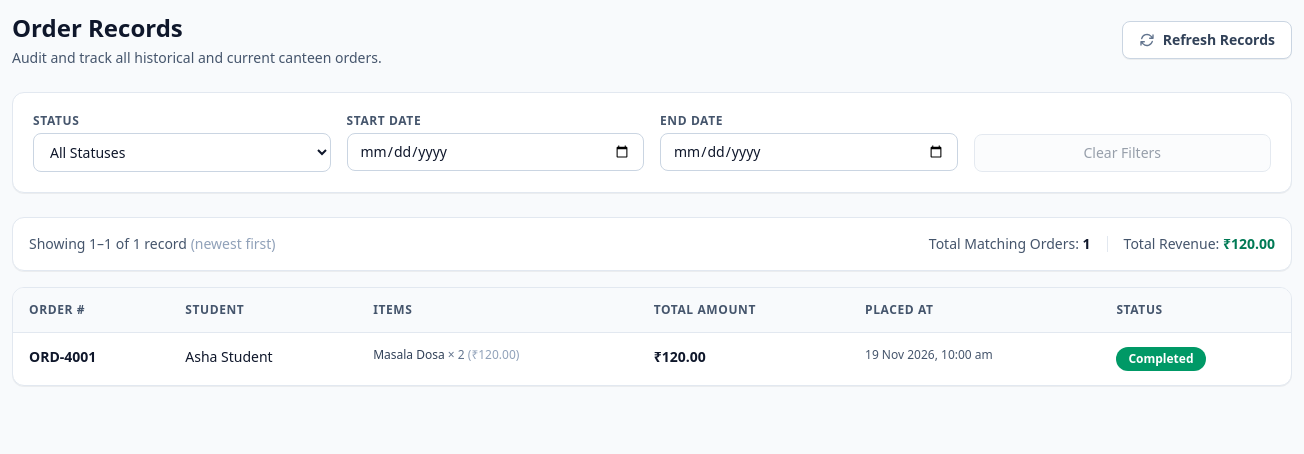
Test case: Increment 4: records, filters, and retry UI › shows records and revenue, then applies status and date filters
This screenshot has width=1304, height=454.
Expected: the row "ORD-4001" is shown, [13, 332, 1291, 385]
Expected: the text "Asha Student" is shown, [185, 347, 273, 366]
Step 1. Select "Completed" in the dropdown labelled "Status" → (182, 152), box [33, 133, 330, 172]
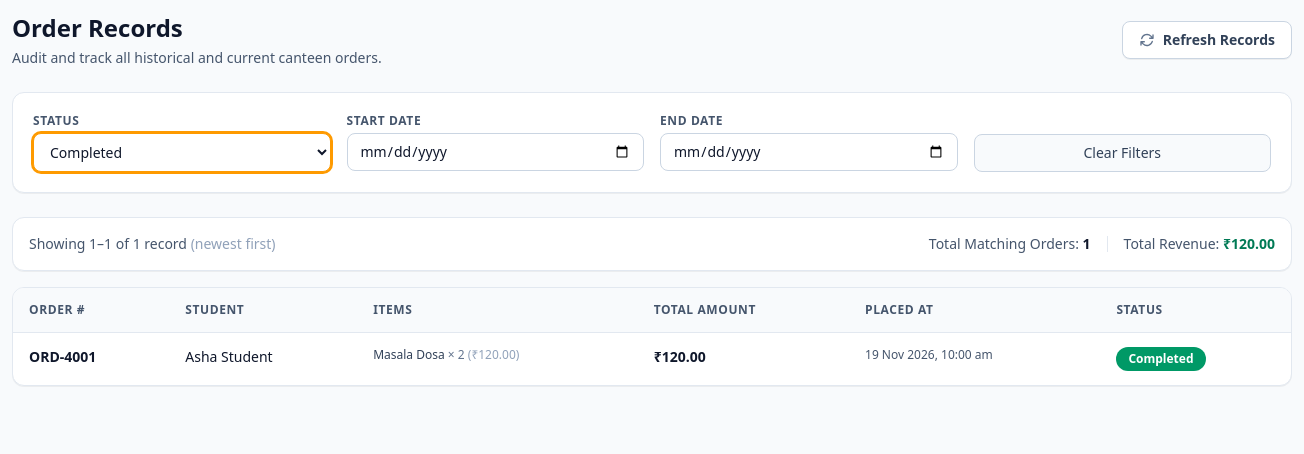
Step 2. Type "2026-11-10" into the date field labelled "Start Date" → (495, 152), box [346, 133, 644, 171]
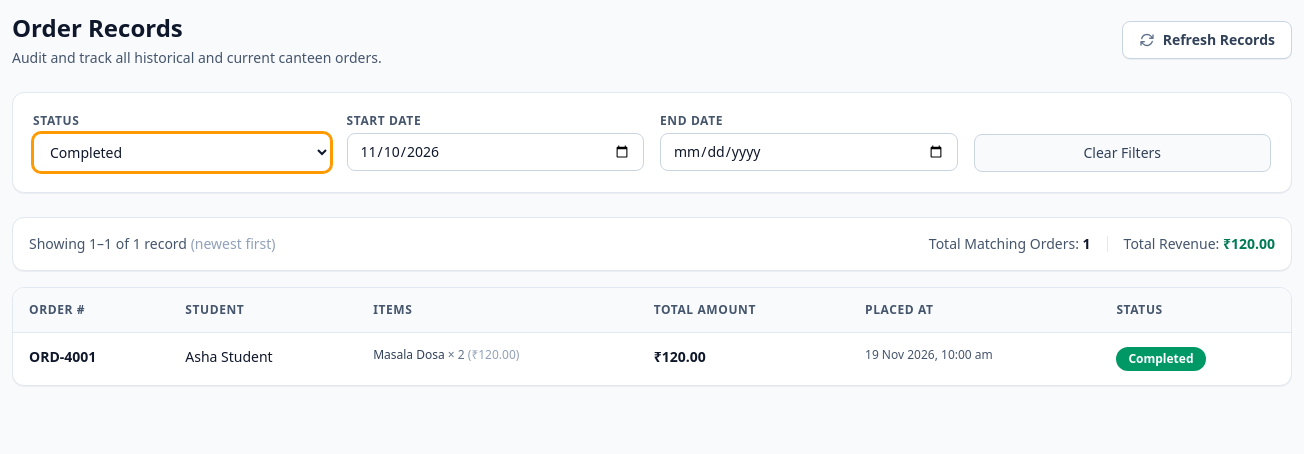
Step 3. Type "2026-11-01" into the date field labelled "End Date" → (809, 152), box [660, 133, 958, 171]
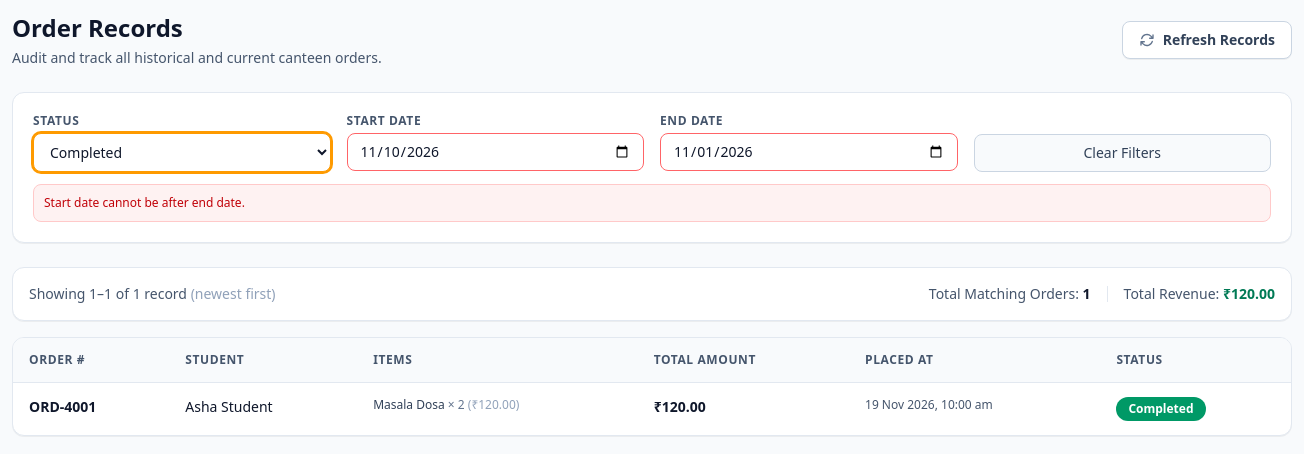
Result: the message reads "Start date cannot be after end date." at [44, 194, 245, 211]
